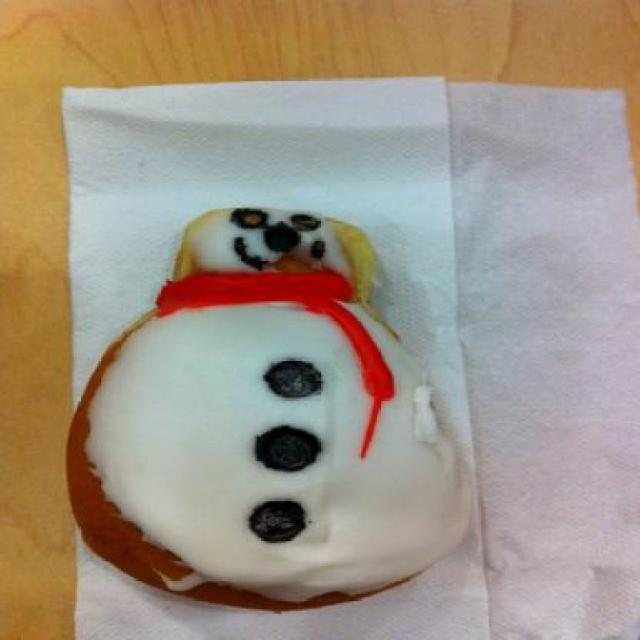Donuts: (57, 196, 488, 618)
